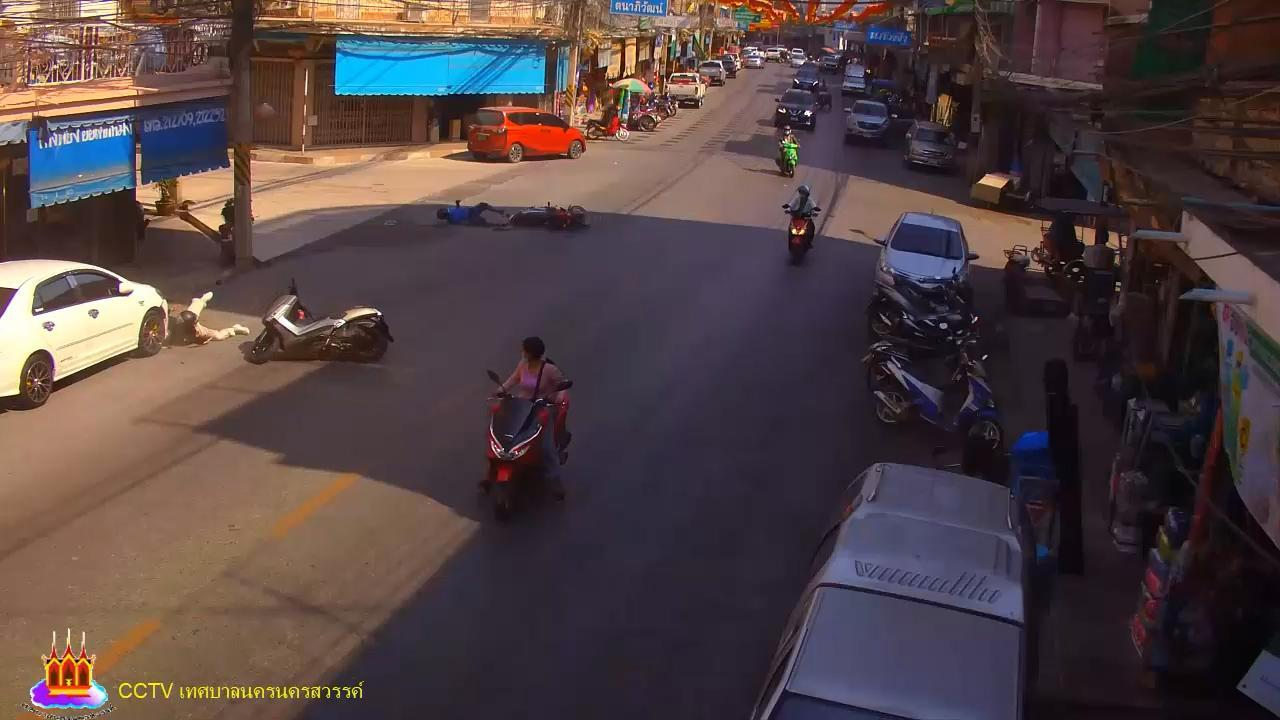accident: (170, 290, 251, 344), (436, 199, 508, 231)
